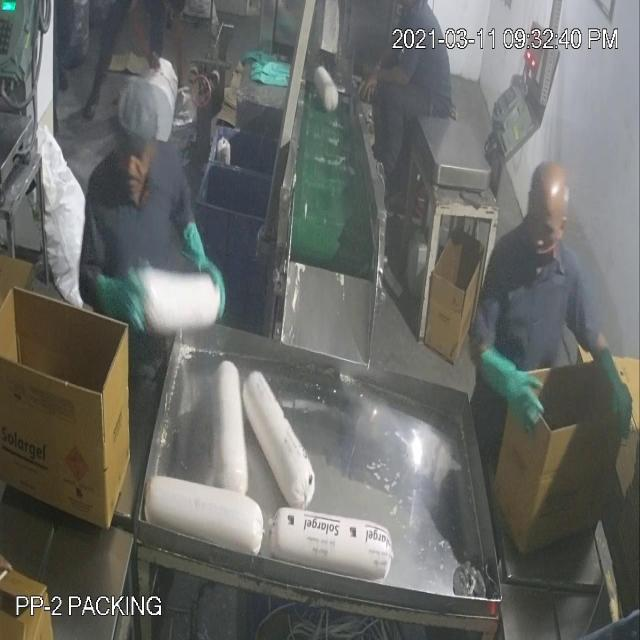gloves: (483, 333, 549, 438), (93, 259, 155, 341), (184, 213, 226, 322), (599, 343, 636, 449)
no-gloves: (124, 2, 168, 79), (172, 1, 198, 104), (362, 62, 418, 105)
